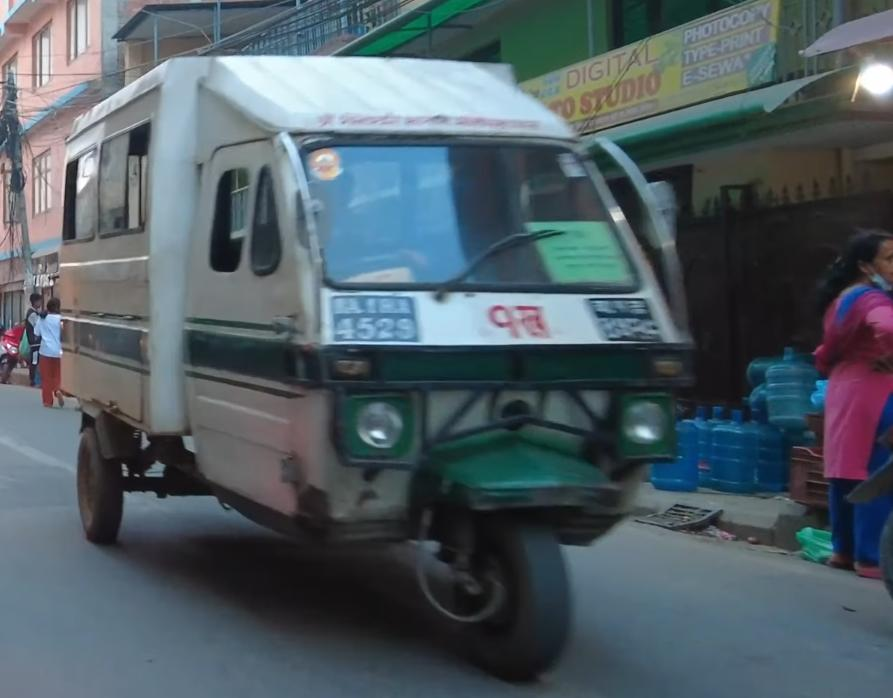tempo: (56, 48, 700, 678)
